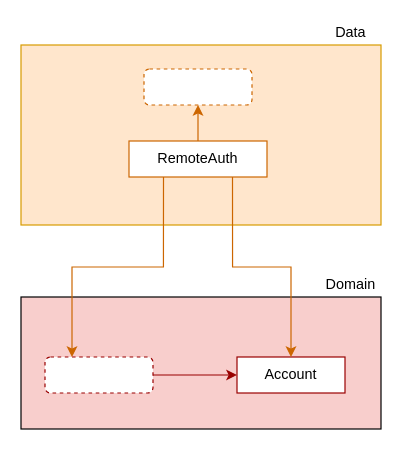
Some shapes in this 402 by 450 pixel diagram are drawn without their labels. The shapes that lost their labels are listed below. From the top down, each one's centre as x and y in pixels, then its label:
At point (197, 86): "HttpClient".
At point (98, 374): "Authentication".
